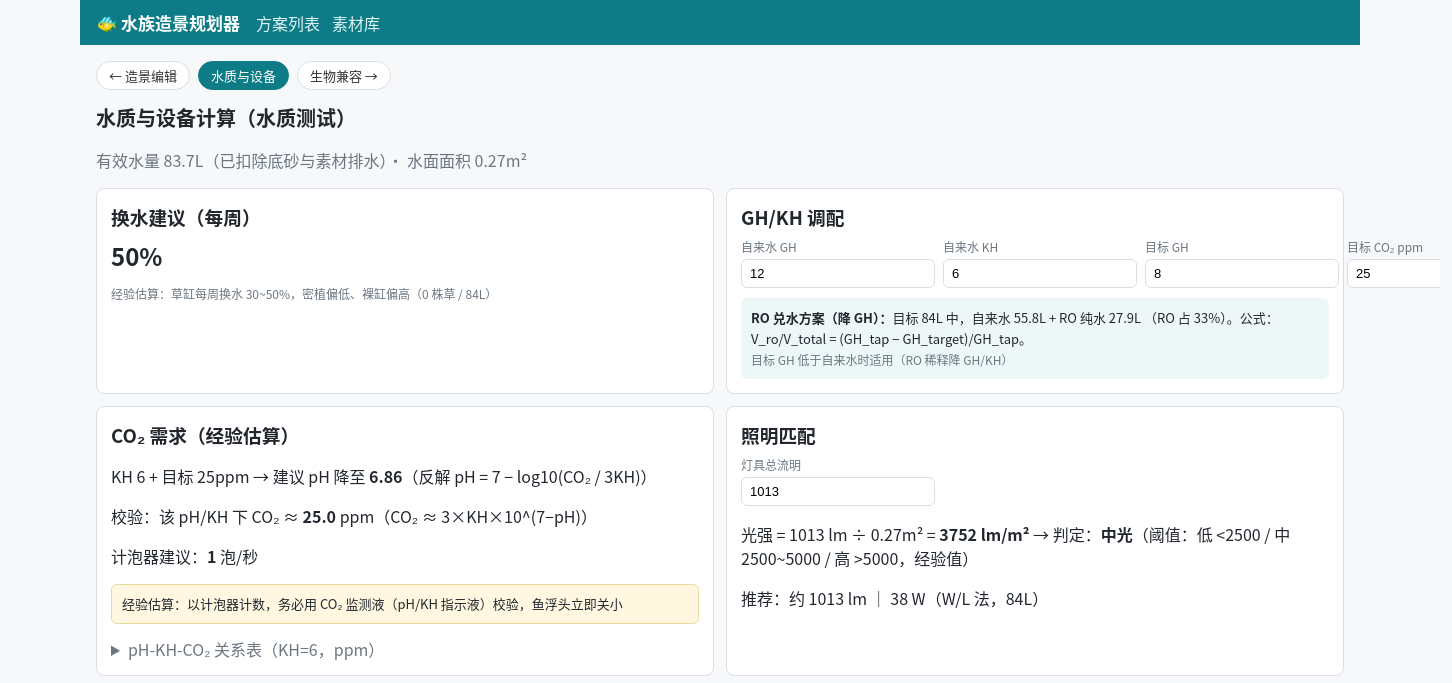
水质与设备页 › 目标 GH 低于自来水 → 显示 RO 方案；调高目标 → 切换为加盐方案
This screenshot has width=1452, height=683.
Expected: the element with test id "ro-result" is shown, left=741, top=298, right=1329, bottom=379
Replace the text in the number field with test id "target-gh" with "18": (1242, 274) left=1145, top=259, right=1339, bottom=288
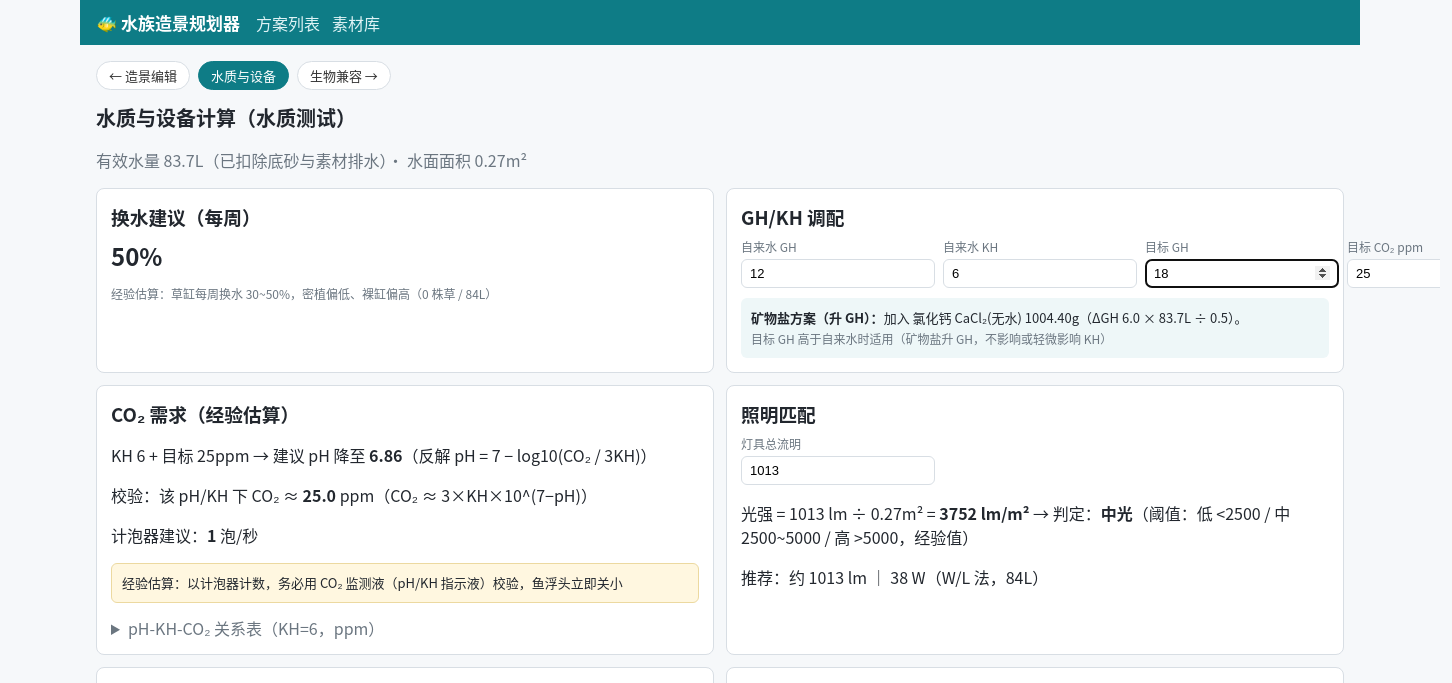
Expected: the element with test id "salt-result" is shown, left=741, top=298, right=1329, bottom=358
Expected: the element with test id "ro-result" is gone
